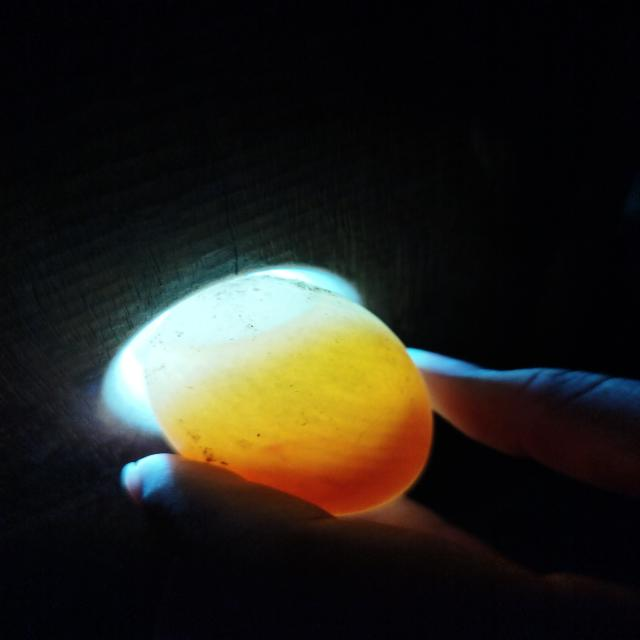Camara de Ar: (154, 275, 320, 345)
Gema Quebrada: (177, 390, 432, 515)
